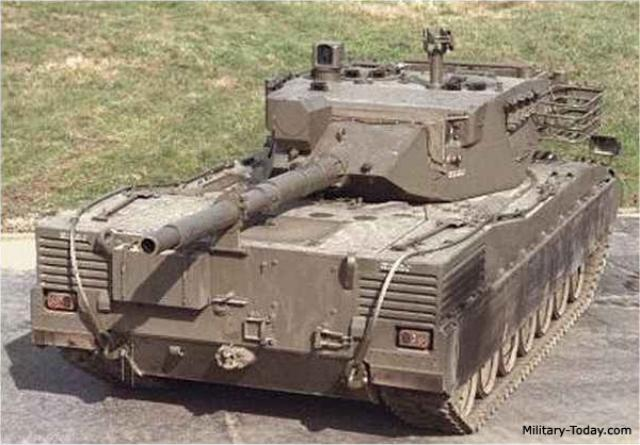tank: (37, 49, 617, 408)
